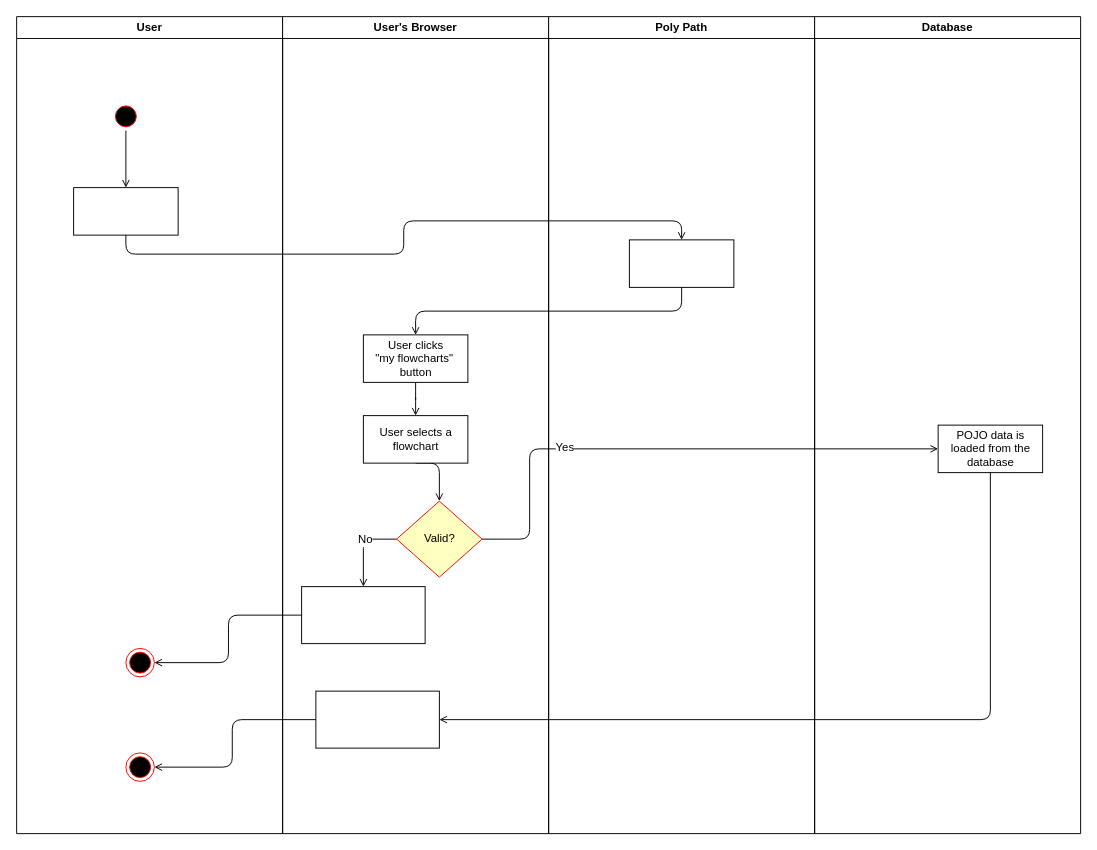
This 1097x850 diagram has some shape labels left out. Here are the shapes that lost their labels. From the top down, the centre of each, then its label:
the point at 125,211: User wants to view a saved flowchart
the point at 681,263: User navigates to their profile
the point at 363,615: Flowchart does not load
the point at 377,719: Flowchart is generated on the webpage
